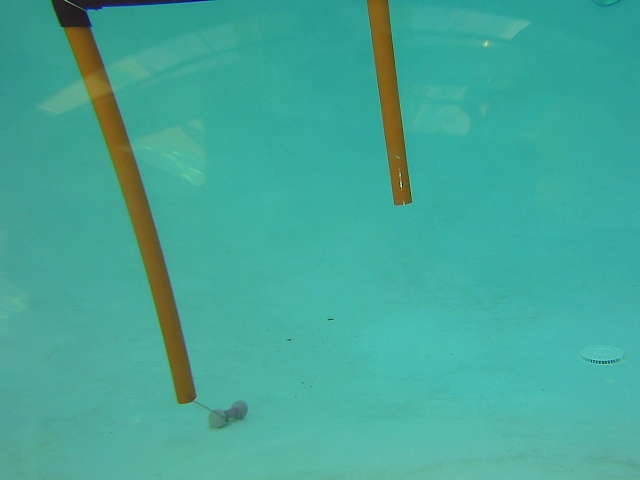Gate: (51, 18, 199, 409), (356, 1, 415, 209)
